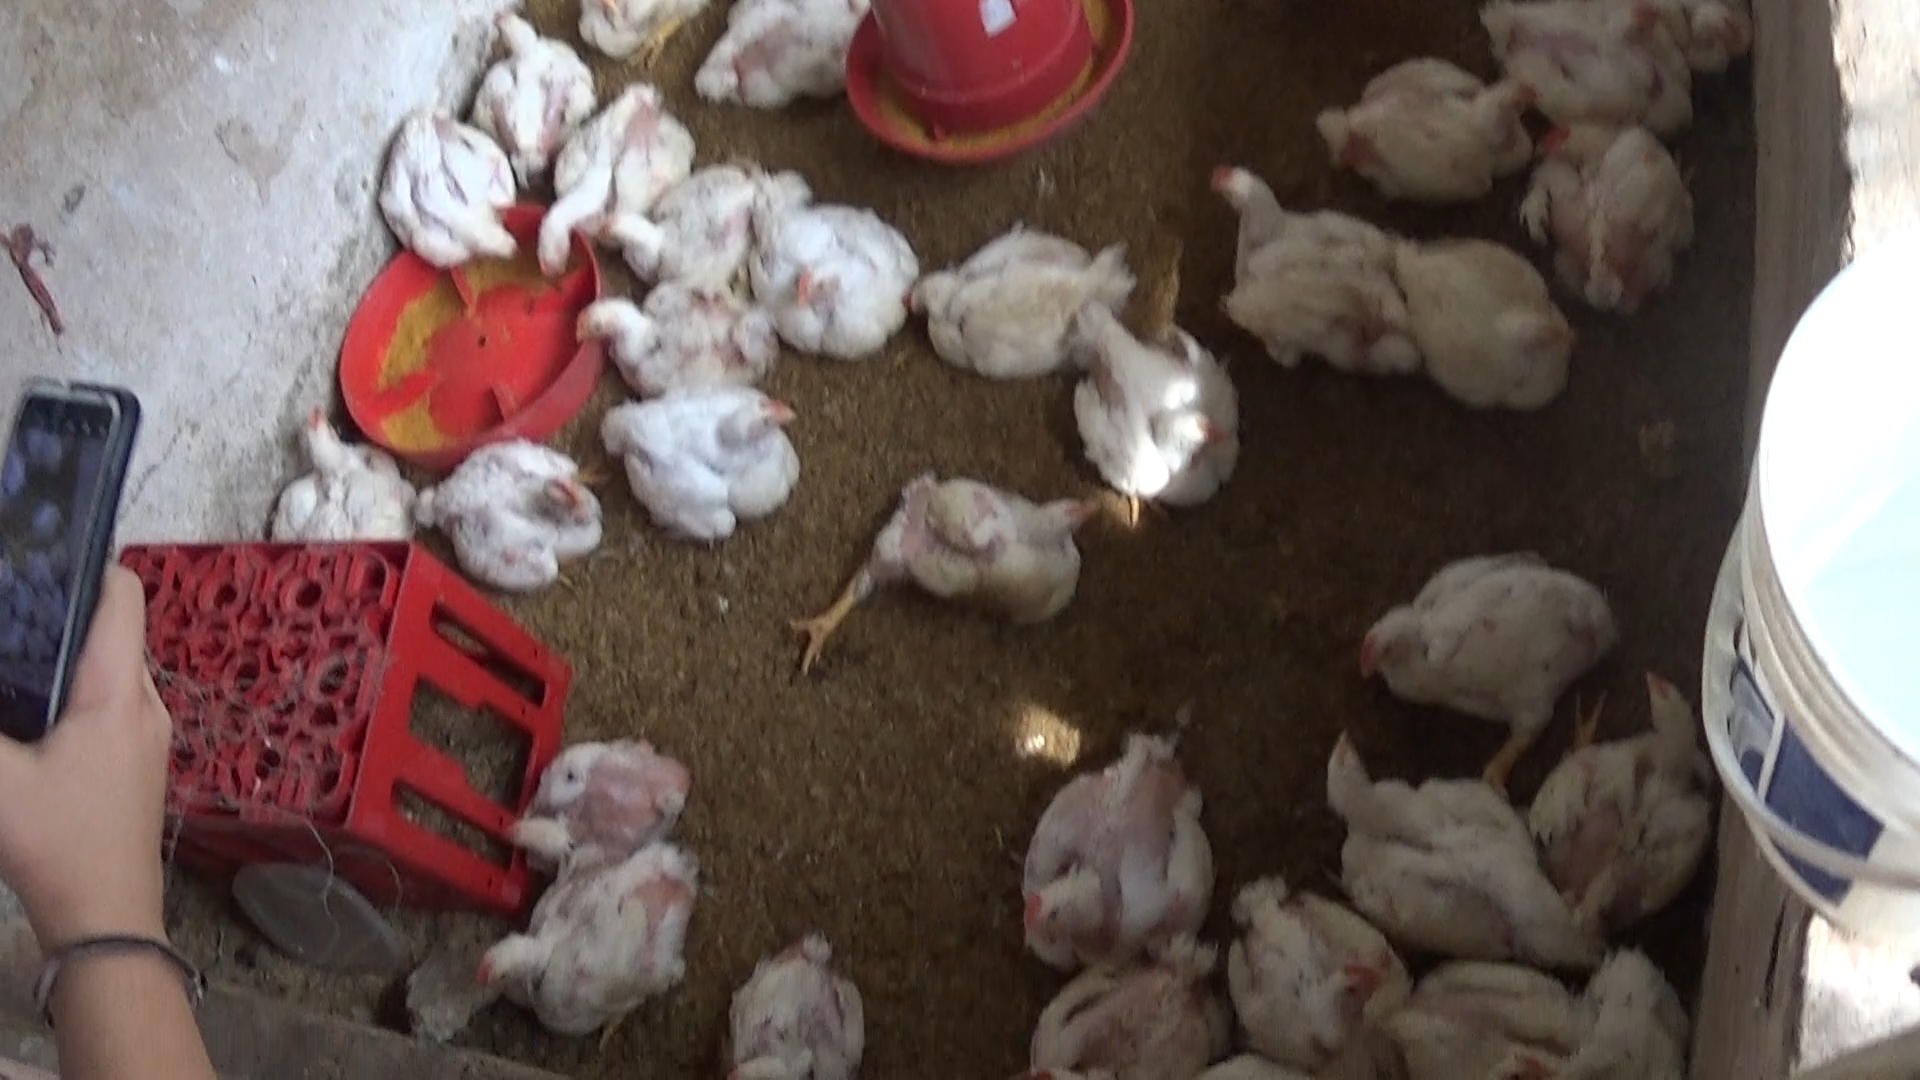Pollos: (1305, 713, 1594, 967), (782, 483, 1096, 676), (997, 709, 1218, 968), (1196, 160, 1414, 388), (1352, 547, 1615, 728), (477, 839, 705, 1040), (1509, 98, 1702, 318), (1540, 667, 1705, 924), (898, 222, 1142, 381), (1185, 877, 1402, 1056), (1069, 305, 1240, 529), (1313, 46, 1540, 212), (1361, 948, 1648, 1073), (529, 76, 698, 289), (1391, 233, 1588, 413), (597, 386, 800, 547), (596, 156, 810, 298), (746, 200, 928, 367), (417, 440, 596, 599), (1458, 0, 1705, 108), (372, 102, 531, 265), (1033, 943, 1221, 1080), (498, 735, 680, 872), (717, 916, 868, 1080), (458, 3, 597, 173), (582, 284, 774, 404), (665, 0, 876, 105), (262, 413, 415, 554)
